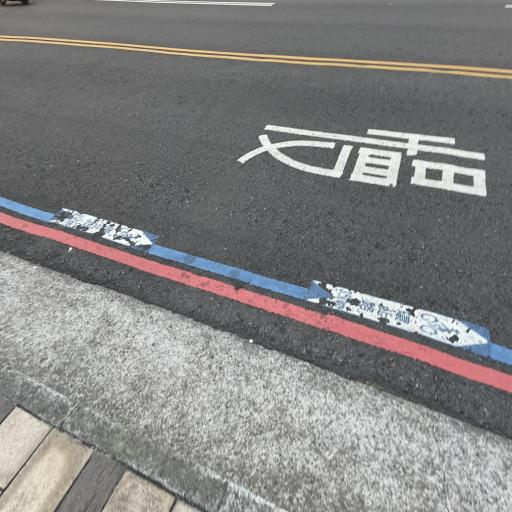redline: (0, 203, 512, 416)
